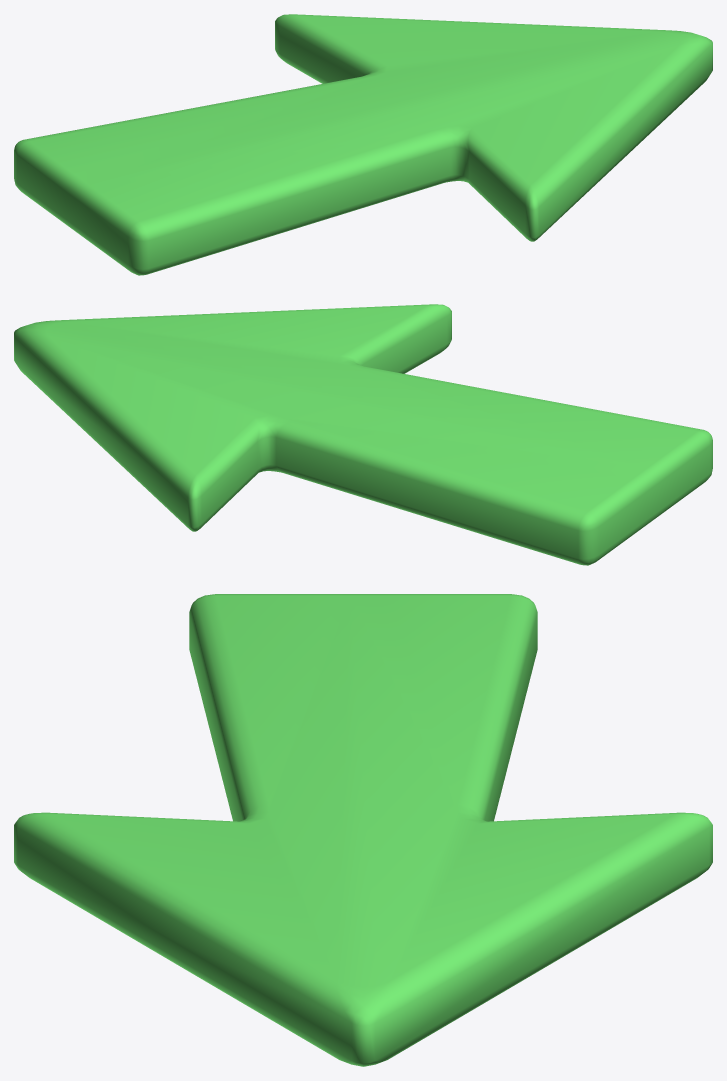
3 renders of one model, top to bottom at view 1: azimuth 30°, elevation 25°; view 2: azimuth 150°, elevation 25°; view 3: azimuth 270°, elevation 25°, orthographic. The views are drawn at different scales.
Parts seen in each view (by area): view 1: Arrow; view 2: Arrow; view 3: Arrow.
Boxes of the visible parts, x1,y1,x2,y2 form: Arrow: [14, 14, 712, 275]; Arrow: [14, 304, 712, 565]; Arrow: [14, 594, 712, 1066].
Size of the model in its own units: 301 by 23.43 by 211.
